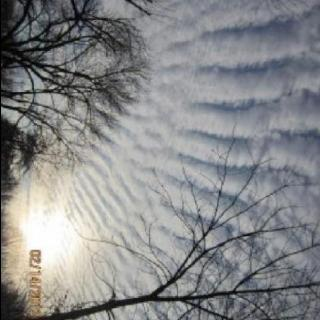Cirrocumulus: (59, 0, 320, 306)
